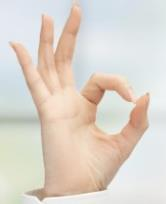left: (8, 1, 153, 188)
